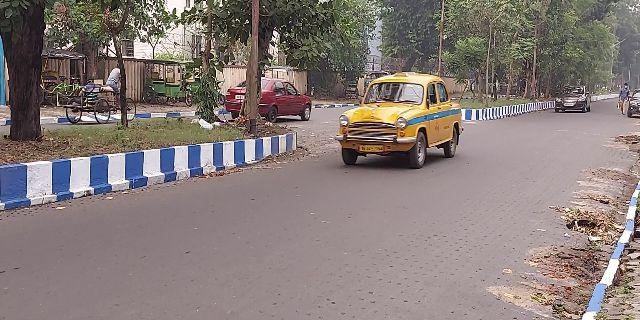Car: (337, 72, 466, 166), (229, 78, 317, 117), (548, 83, 594, 112)
